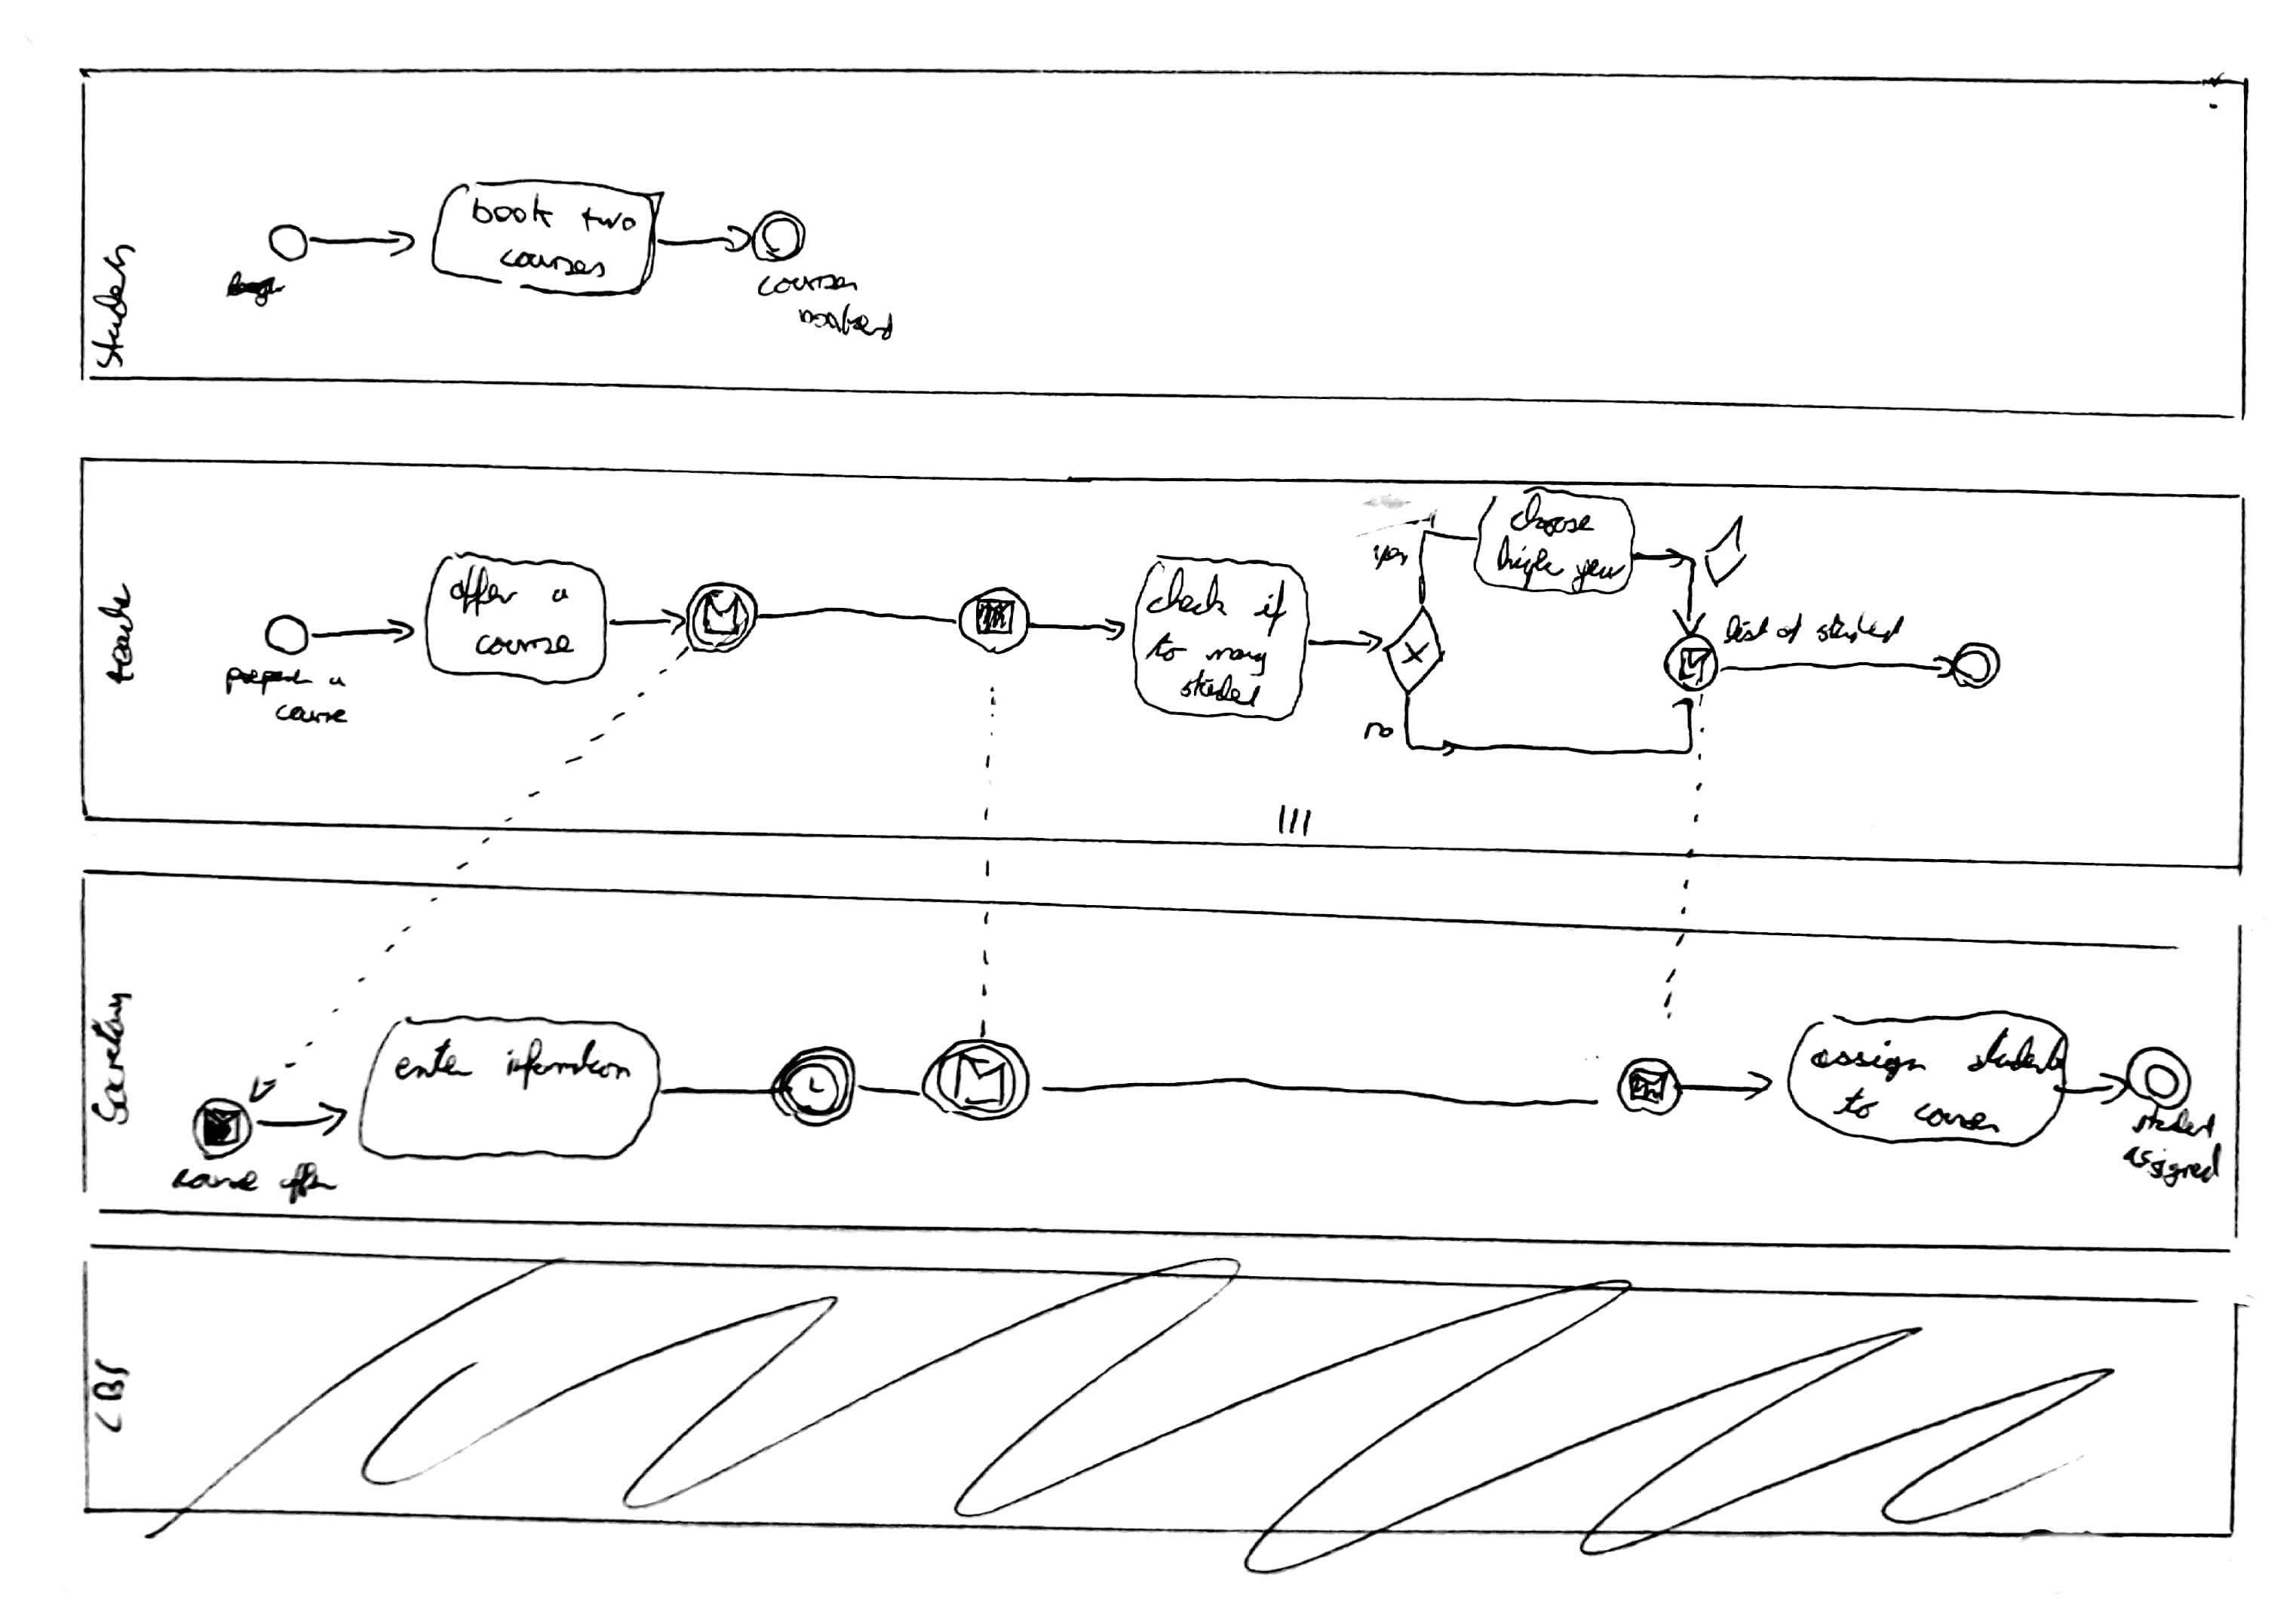CBS: (88, 1359, 130, 1436)
III: (1270, 799, 1320, 843)
Secretary: (92, 989, 130, 1126)
a: (327, 676, 348, 690), (551, 587, 572, 602)
assign: (1809, 1040, 1926, 1082)
assigned: (2123, 1140, 2223, 1189)
book: (471, 192, 553, 228)
booked: (797, 301, 902, 339)
check: (1146, 567, 1230, 622)
choose: (1511, 494, 1595, 535)
course: (474, 631, 575, 661), (1914, 1103, 1999, 1133), (171, 1169, 264, 1192), (273, 703, 352, 724)
courses: (503, 247, 608, 270), (756, 272, 858, 296)
enter: (391, 1037, 474, 1082)
higher: (1495, 536, 1564, 591)
if: (1252, 578, 1294, 639)
information: (507, 1040, 633, 1088)
list: (1725, 613, 1770, 646)
many: (1205, 645, 1269, 676)
no: (1357, 715, 1395, 747)
of: (1776, 612, 1807, 648)
offer: (448, 564, 517, 614), (276, 1162, 340, 1204)
prepare: (219, 666, 314, 697)
started: (1816, 611, 1906, 646)
student: (1181, 671, 1265, 708), (2130, 1103, 2224, 1135)
students: (91, 245, 137, 368), (1968, 1026, 2067, 1075)
teacher: (97, 582, 135, 686)
to: (1833, 1089, 1878, 1121), (1146, 632, 1186, 661)
two: (581, 207, 637, 232)
year: (1571, 559, 1625, 591)
yes: (1366, 539, 1412, 573)
